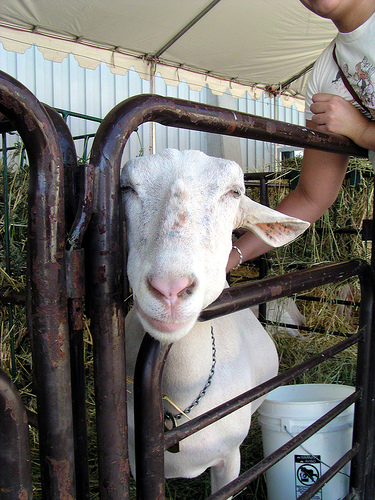goat: (120, 147, 310, 500)
